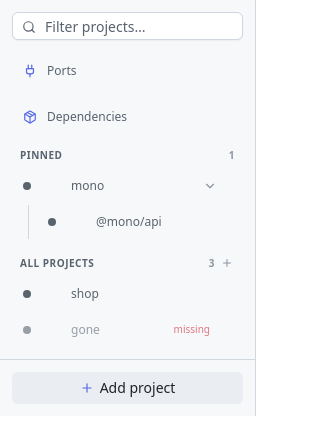
Sidebar › filters by project or workspace name
This screenshot has width=320, height=433.
Type "api" into the field labelled "Filter projects" at (128, 26), box [12, 12, 243, 40]
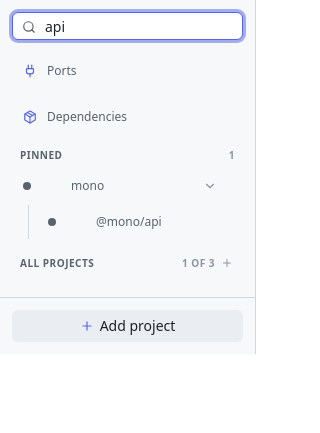
Expected: the button "mono" is shown, [12, 169, 199, 203]
Now the button "shop" is gone
